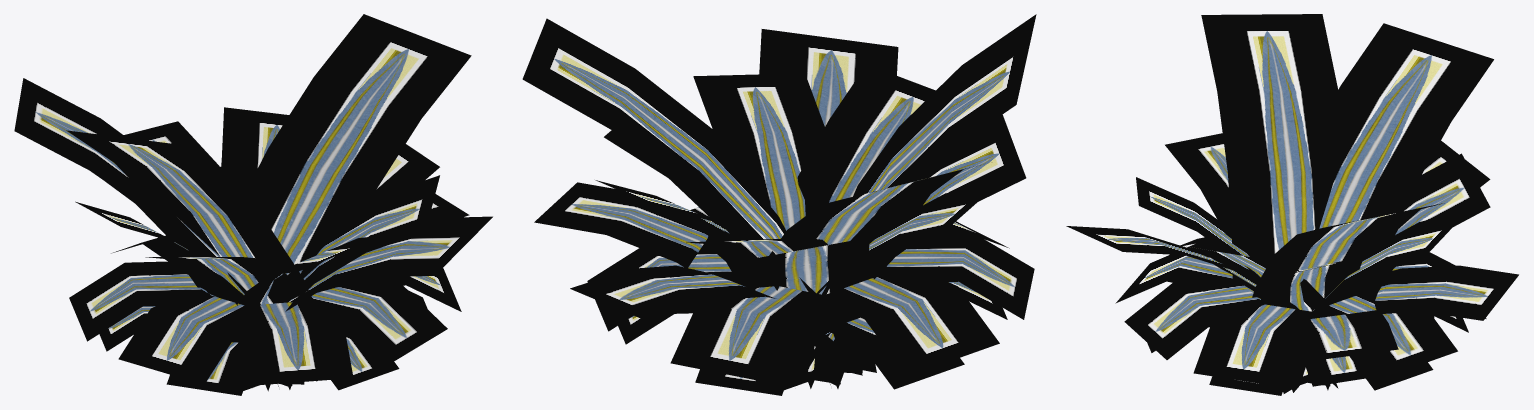
File: plante_4_1.FBX
3 views of the same model, side by side, from view 1: azimuth 30°, elevation 25°; view 2: azimuth 150°, elevation 25°; view 3: azimuth 270°, elevation 25° (orthographic). The views are drawn at different scales.
Visible parts, largest first — view 1: Plane347; view 2: Plane347; view 3: Plane347.
Boxes of the visible parts, bbox=[...] form: Plane347: bbox=[14, 14, 492, 395]; Plane347: bbox=[522, 14, 1036, 395]; Plane347: bbox=[1066, 14, 1518, 395].
Size of the model in its own units: 162 by 110 by 155.
